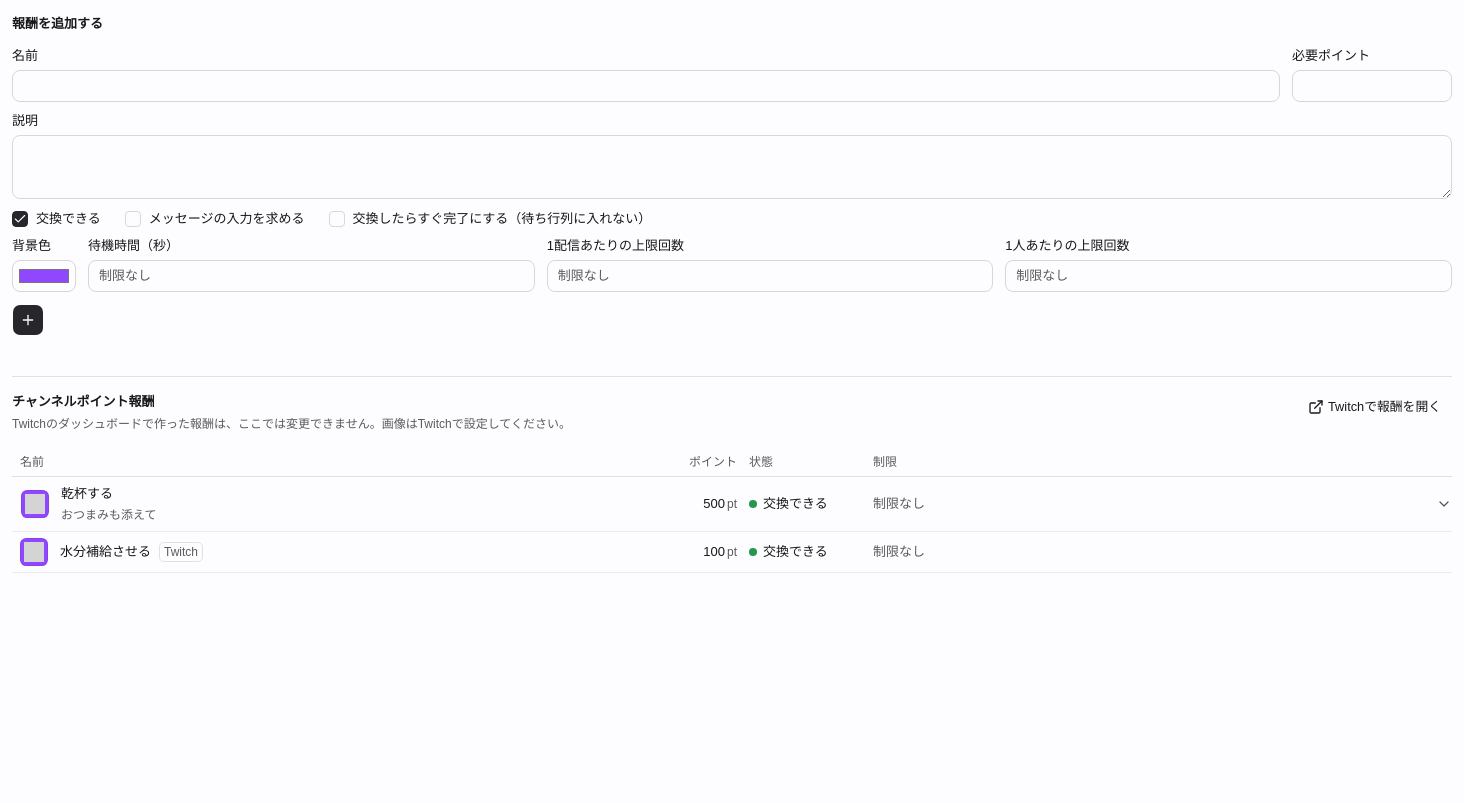
Test: 報酬の編集 › 書き換えた内容で報酬を保存し、保存したことを知らせる
Click the button "乾杯する おつまみも添えて 500pt 交換できる 制限なし".
click(720, 504)  # box [12, 477, 1428, 531]
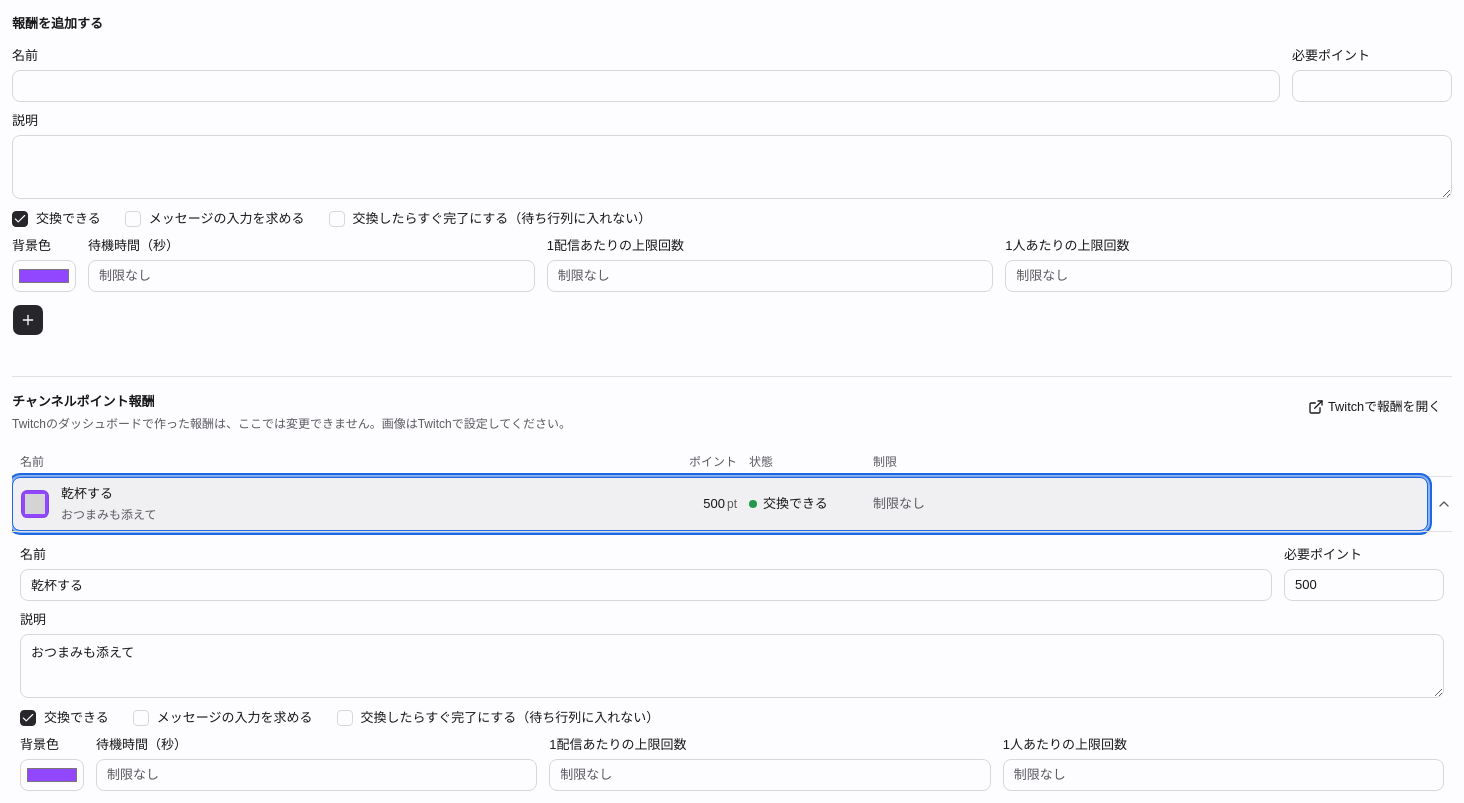
Replace the text in the 2nd number field labelled "必要ポイント" with "800" at [1364, 585], box [1284, 569, 1444, 601]
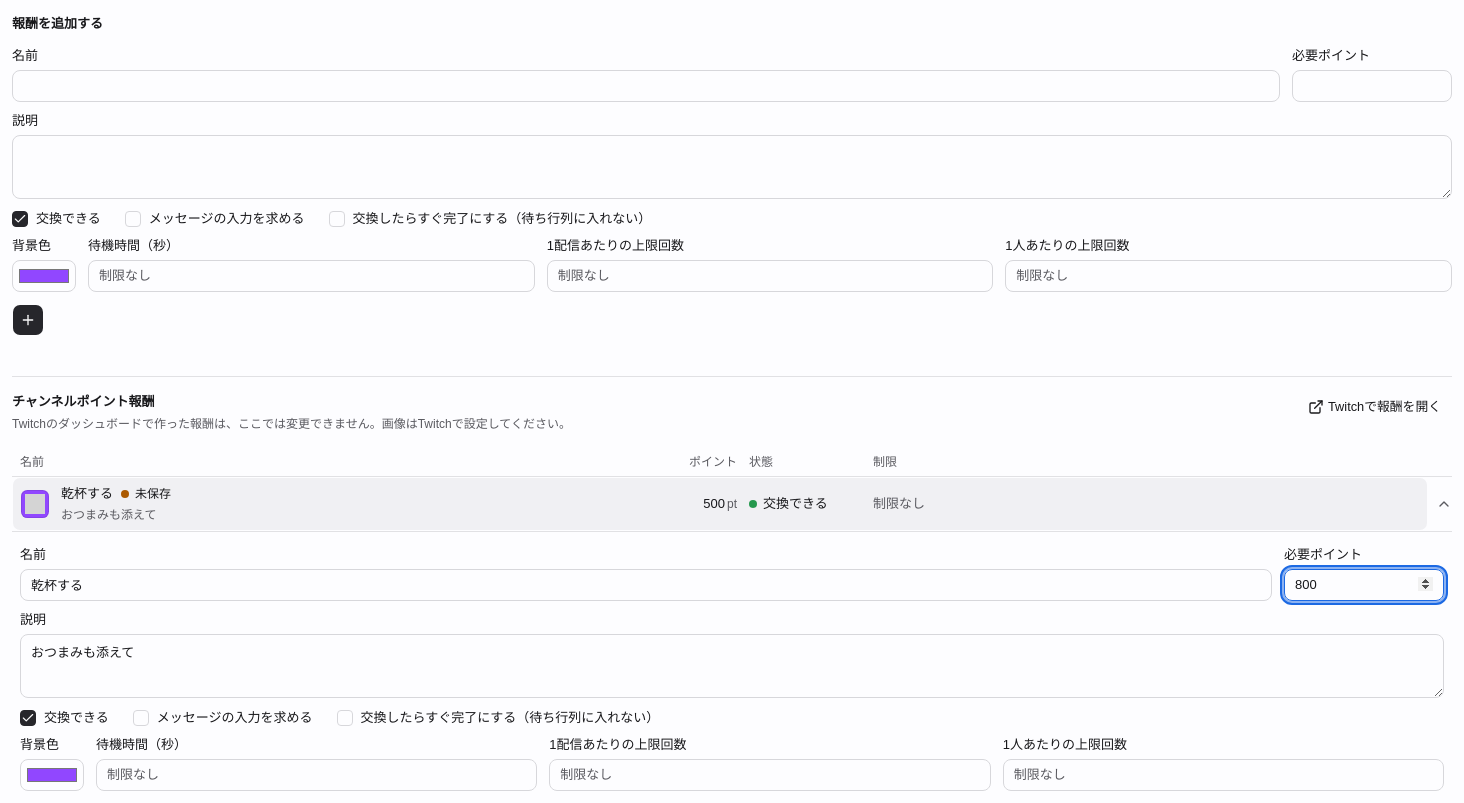
Click the 4th checkbox named "交換できる".
click(28, 718)  # box [20, 710, 36, 726]
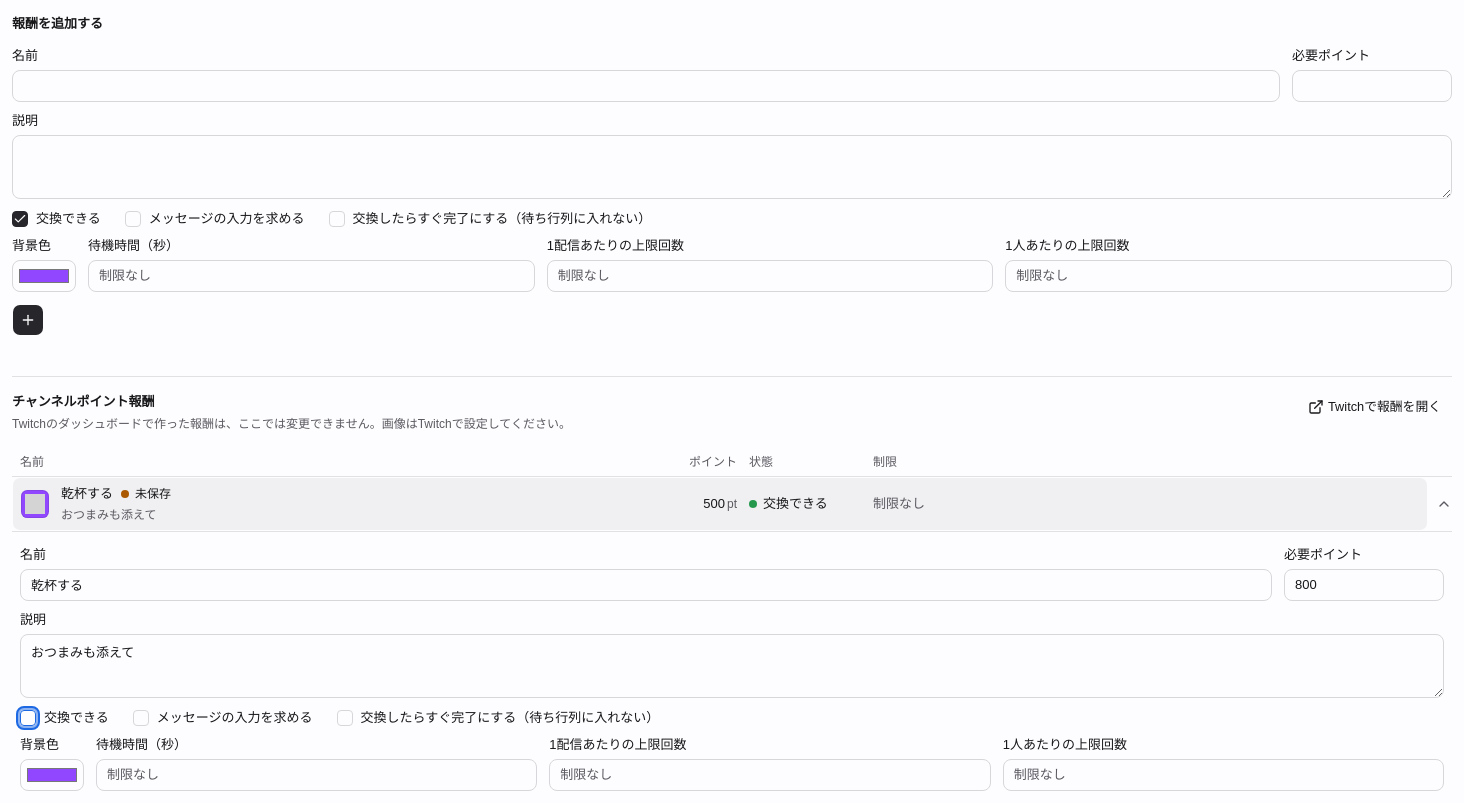
Type "5" into the 2nd number field labelled "1配信あたりの上限回数".
click(770, 775); type("5")  # box [549, 759, 991, 791]
(page scrolled)
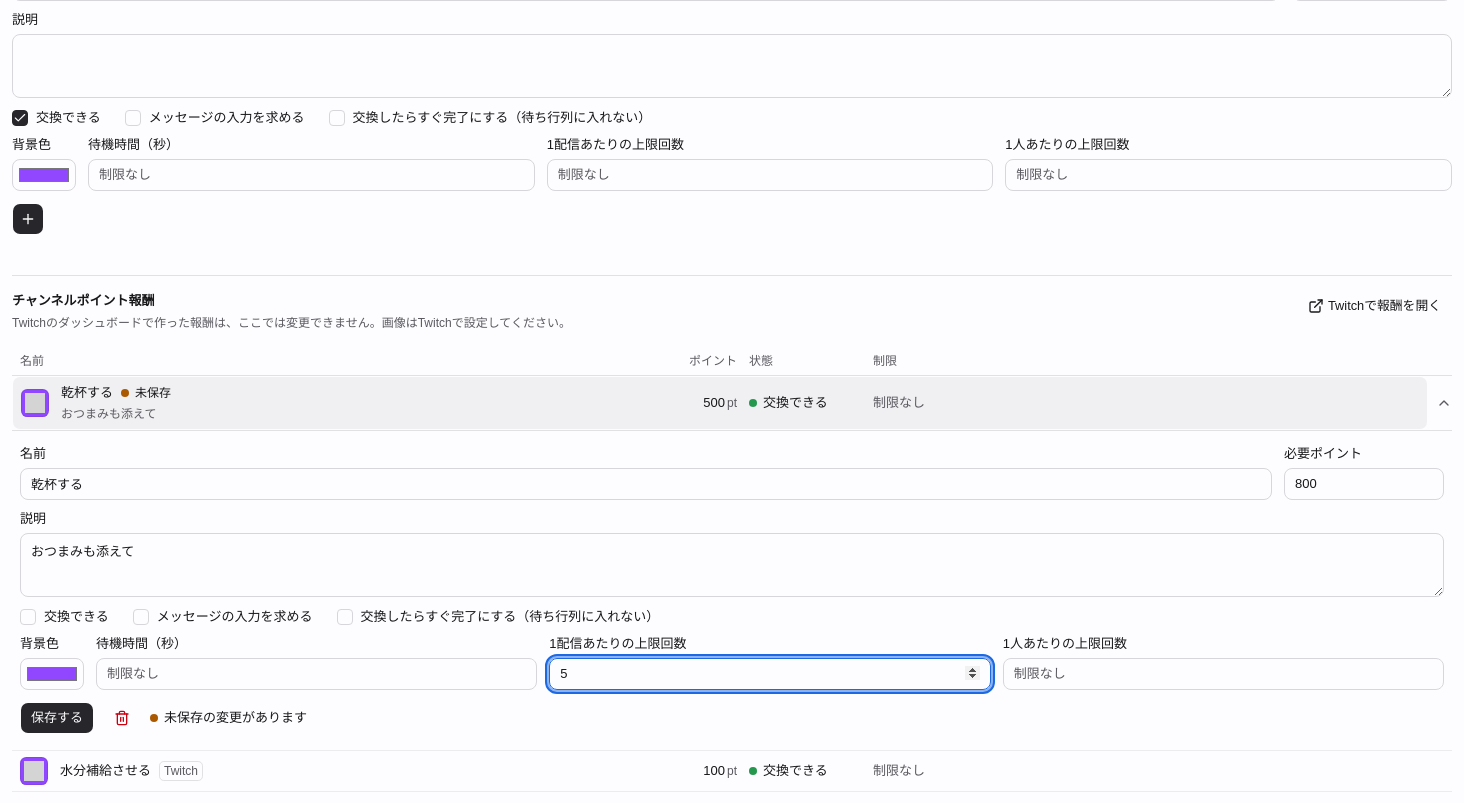
Click the button with aria-label "乾杯する を保存する".
click(57, 718)  # box [20, 702, 94, 734]
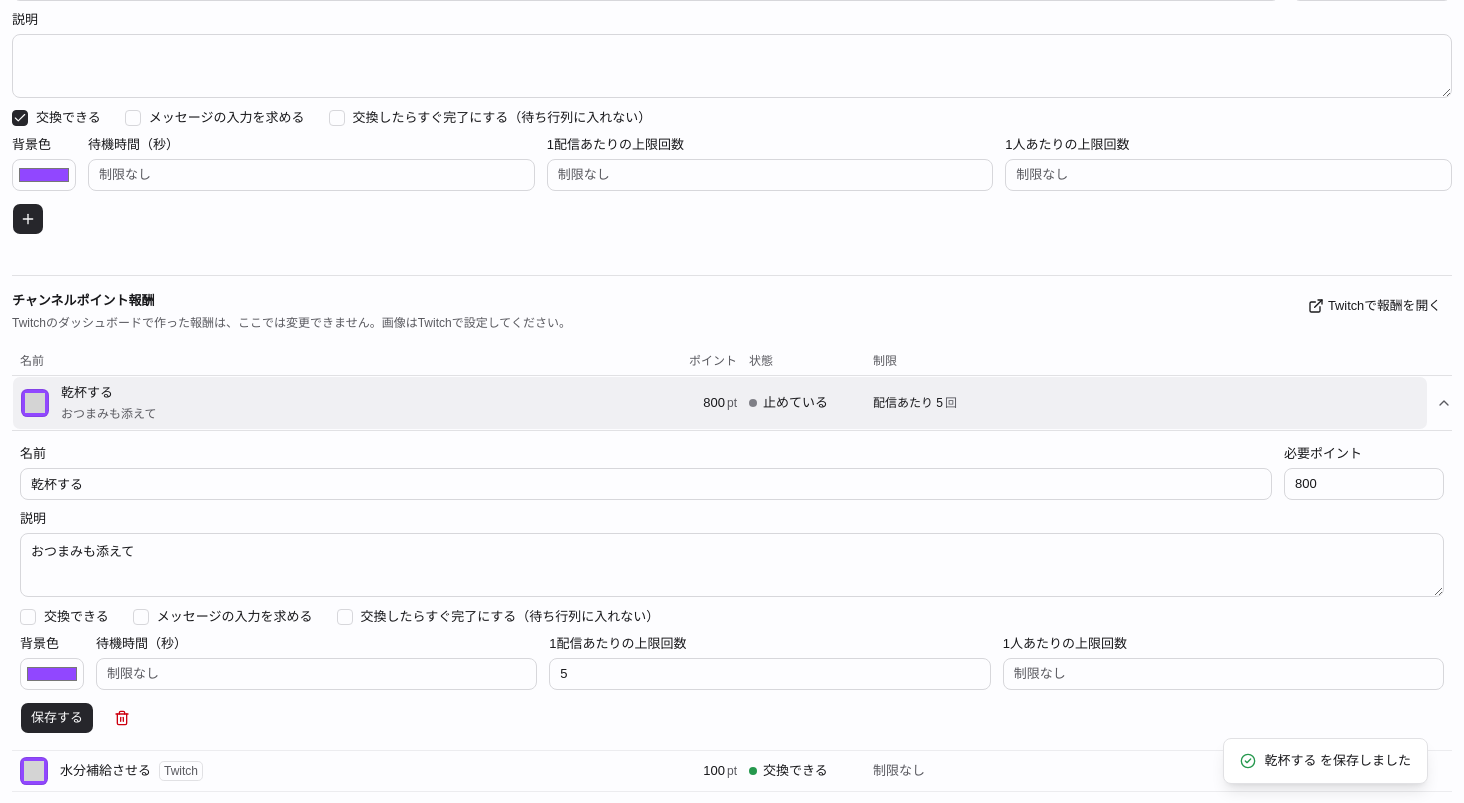
Now the text "乾杯する を保存しました" is shown, box [1223, 738, 1428, 784]
